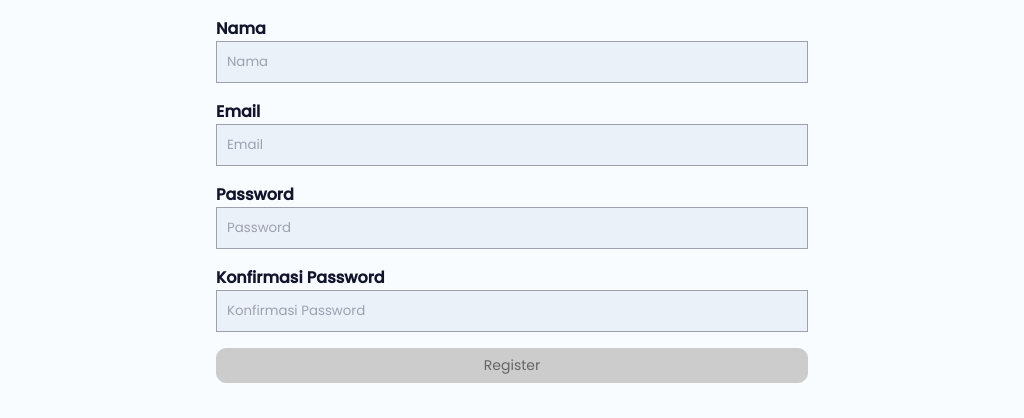
Test case: RegisterInput component › should show invalid name message when name is empty
This screenshot has width=1024, height=418.
Click the field with placeholder "Nama": (512, 62) left=216, top=41, right=808, bottom=83
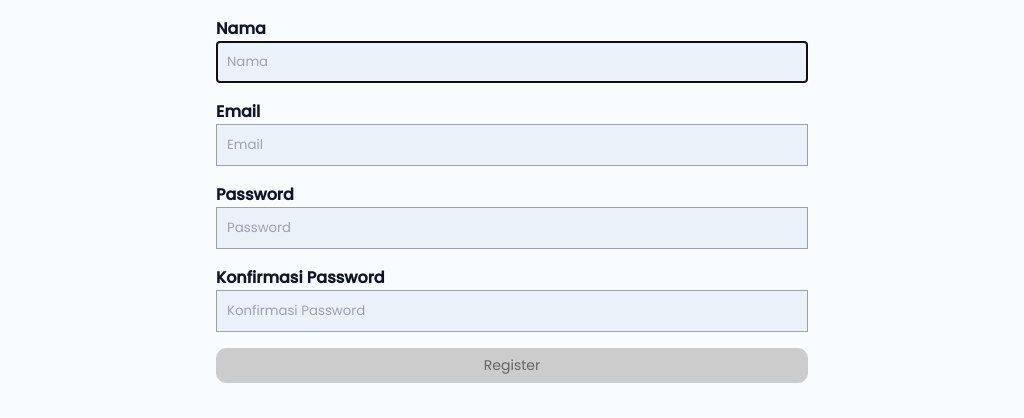
Click the element showing "Nama Email Password Konfirmasi Password Register": (512, 200) left=0, top=0, right=1023, bottom=399
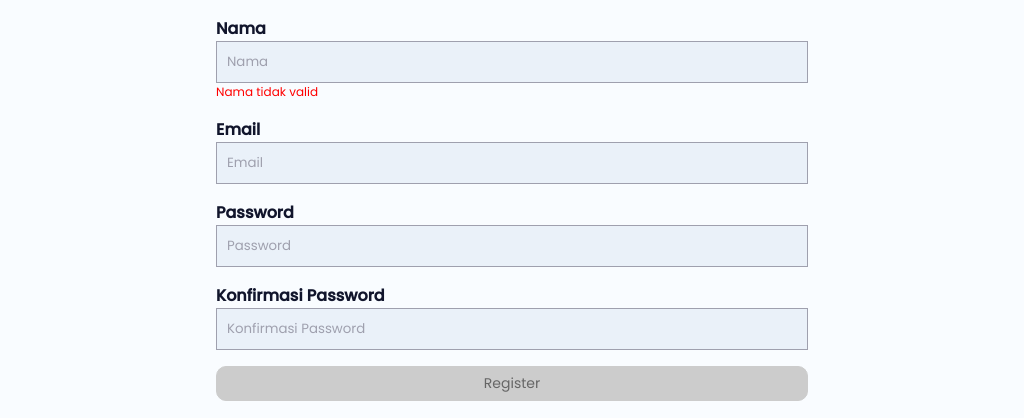
Now the text "Nama tidak valid" is shown, box left=216, top=83, right=318, bottom=100
